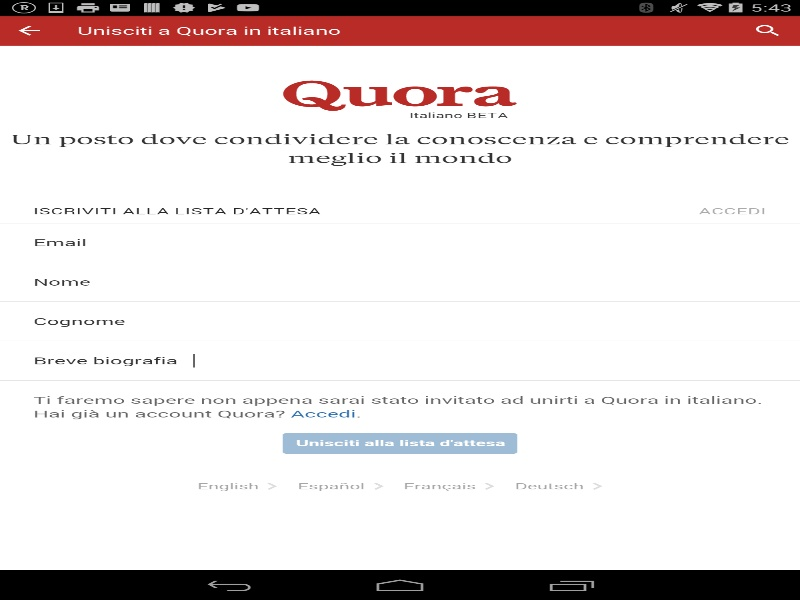Input: (193, 235, 766, 249), (193, 314, 766, 328), (193, 353, 766, 367), (193, 275, 766, 288)
